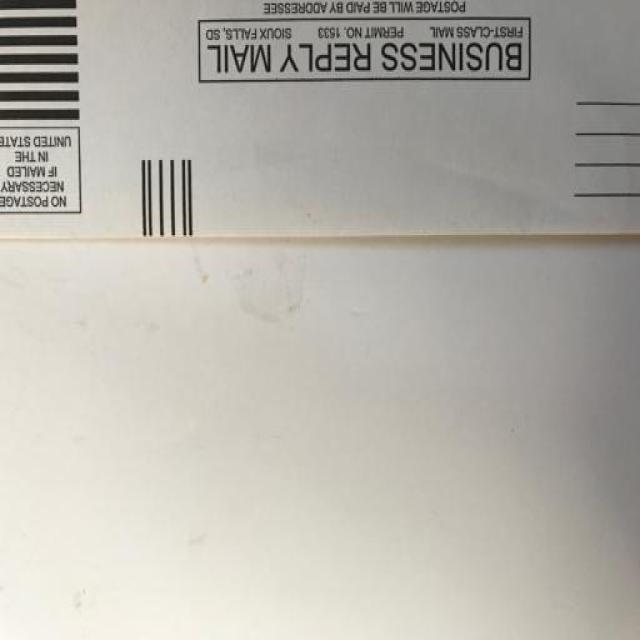paper: (0, 0, 639, 238)
